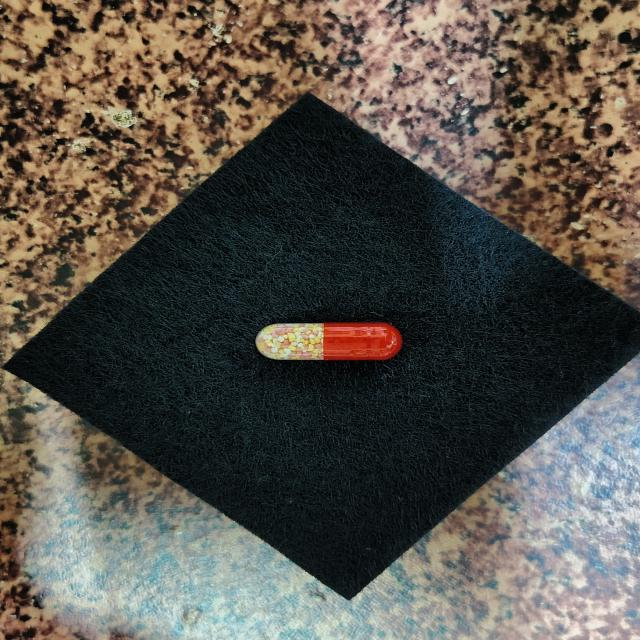Intact Capsule: (255, 323, 402, 360)
